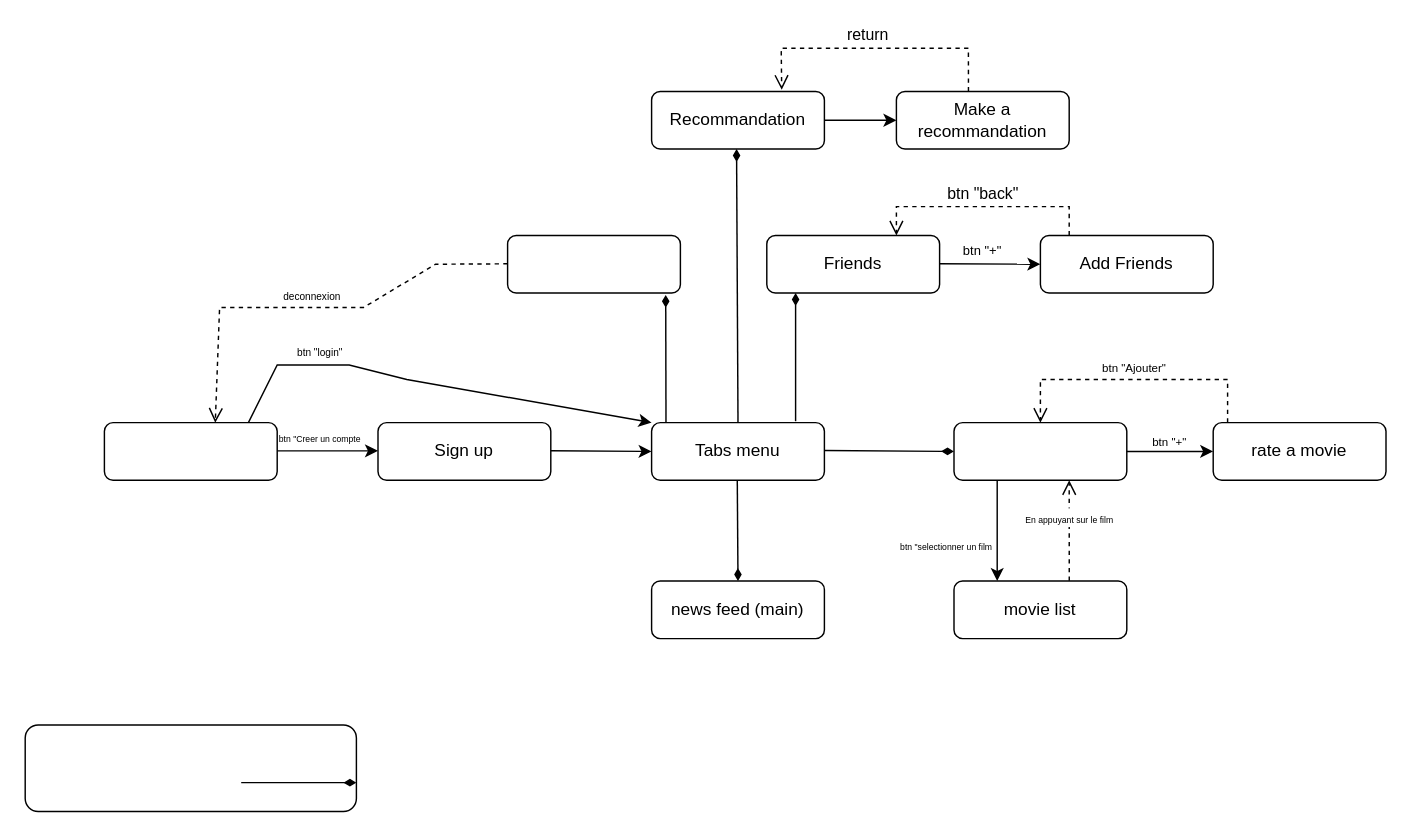
Some shapes in this 1411 by 837 pixel diagram are drawn without their labels. The shapes that lost their labels are listed below. From the top down, each one's centre as x and y in pixels, then its label:
At point (593, 263): "Settings".
At point (190, 450): "Login".
At point (1040, 450): "my rating".
At point (190, 767): "Legend Tabs menu =".
